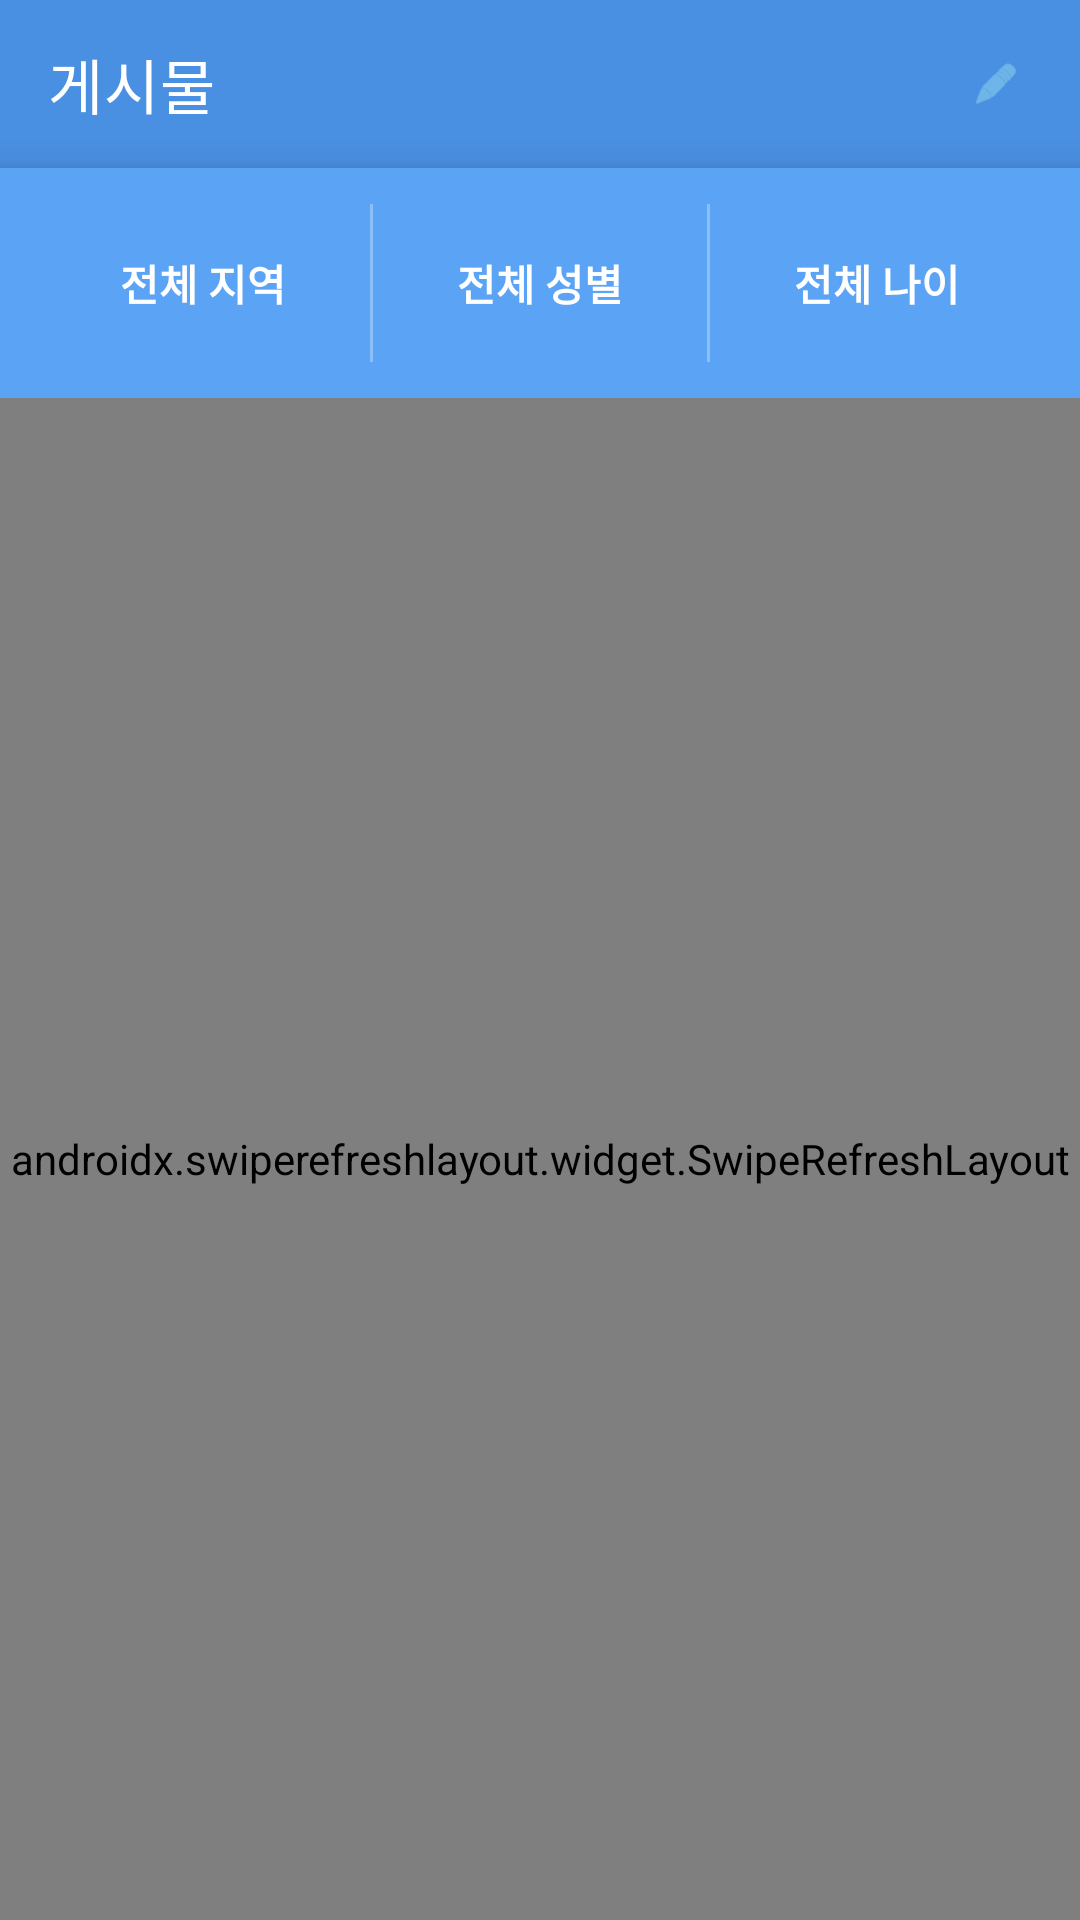

Screen size 1080px x 1920px. Icon name, then its box in pixels as (x1, y1, x2, y2):
게시물 작성: (976, 64, 1016, 103)
